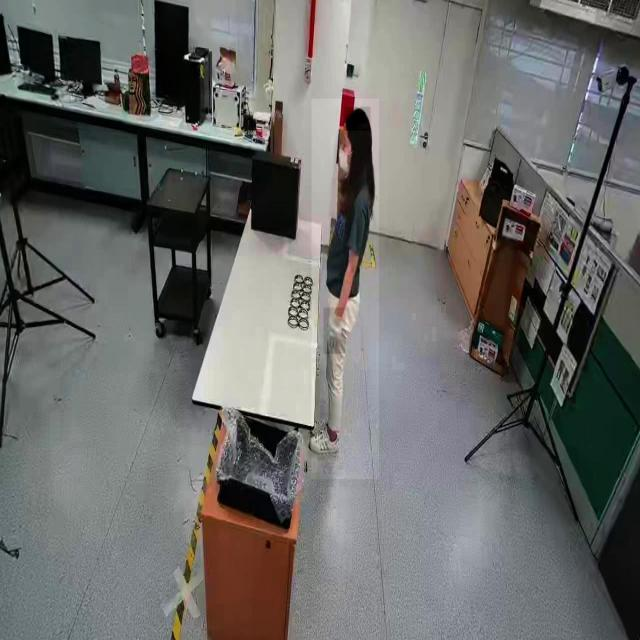face_mask: (331, 135, 353, 178)
hand_glove: (324, 308, 346, 354)
head_nohelmet: (343, 106, 371, 132)
person: (312, 99, 379, 480)
shoes: (308, 426, 342, 456)
